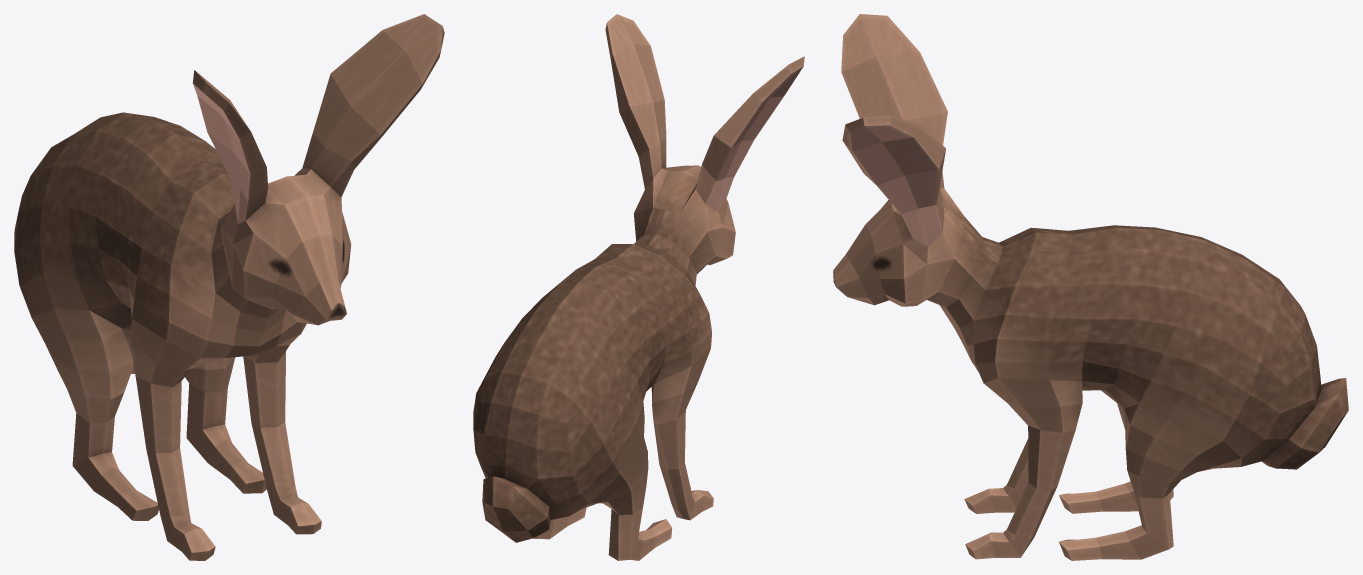
File: jackrabbit.glb
The picture shows the model from 3 angles, left to right: view 1: azimuth 30°, elevation 25°; view 2: azimuth 150°, elevation 25°; view 3: azimuth 270°, elevation 25°; orthographic projection. The views are drawn at different scales.
Parts seen in each view (by area): view 1: JackRabbit_mesh; view 2: JackRabbit_mesh; view 3: JackRabbit_mesh.
Part boxes in pixels (<box>): JackRabbit_mesh: <box>14,14,444,560</box>; JackRabbit_mesh: <box>473,14,804,560</box>; JackRabbit_mesh: <box>833,14,1348,560</box>.
Size of the model in its own units: 3.29 by 7 by 6.98.
Materials: 1 (1 with a texture image).
